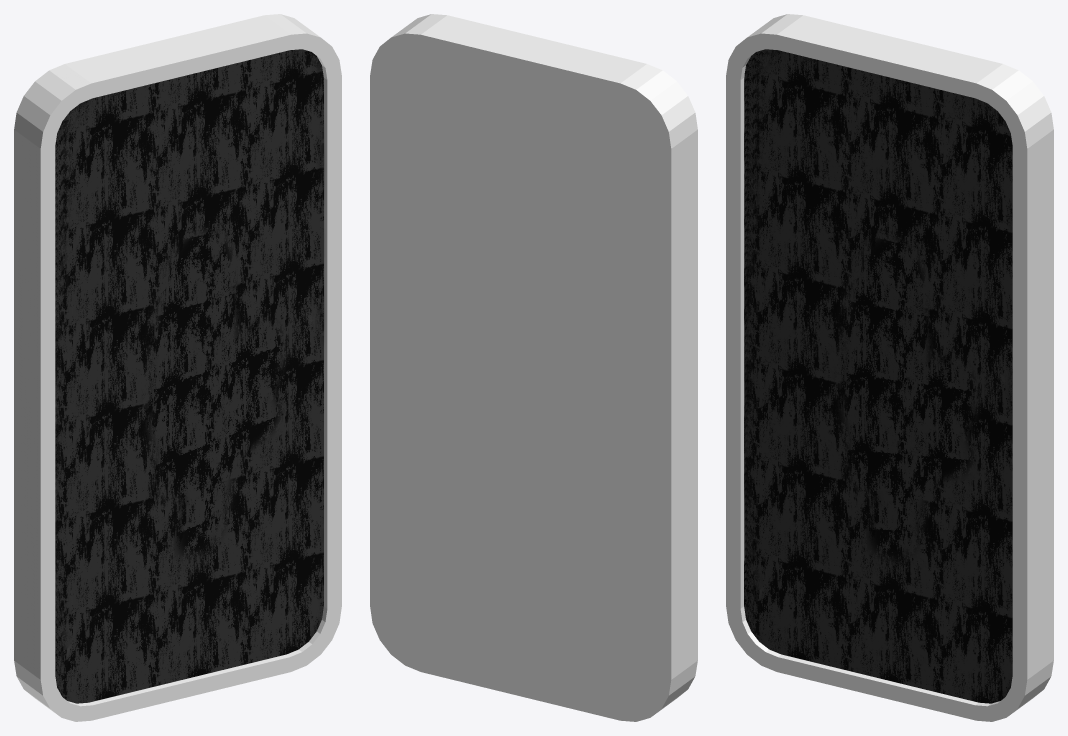
The model's file is iphone.glb.
The picture shows the model from 3 angles, left to right: view 1: azimuth 30°, elevation 25°; view 2: azimuth 150°, elevation 25°; view 3: azimuth 330°, elevation 25°; orthographic projection.
Parts seen in each view (by area): view 1: Cube; view 2: Cube; view 3: Cube.
Boxes of the visible parts, x1,y1,x2,y2 form: Cube: (14, 14, 341, 721); Cube: (370, 14, 697, 721); Cube: (726, 14, 1053, 721).
Bounding box in the file's own units: 0.9892 × 2 × 0.1515.
1 material, 1 textured.
